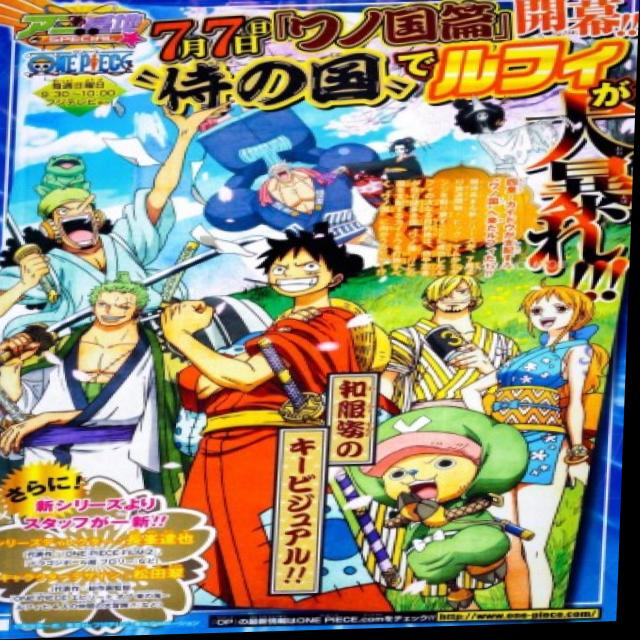Chyopa: (344, 417, 526, 515)
Luffy: (236, 233, 364, 311)
Nami: (519, 288, 605, 350)
Sangdi: (420, 269, 489, 325)
Usopp: (36, 184, 118, 255)
Zoro: (76, 279, 171, 333)
